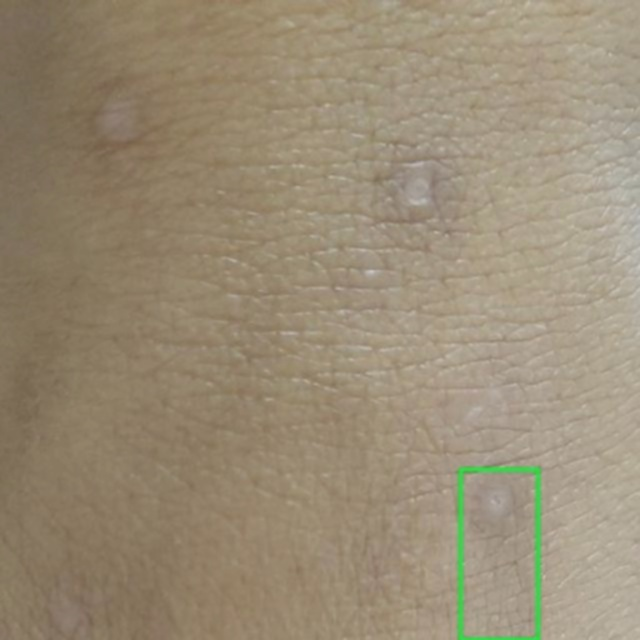Scabies: (460, 469, 538, 639)
